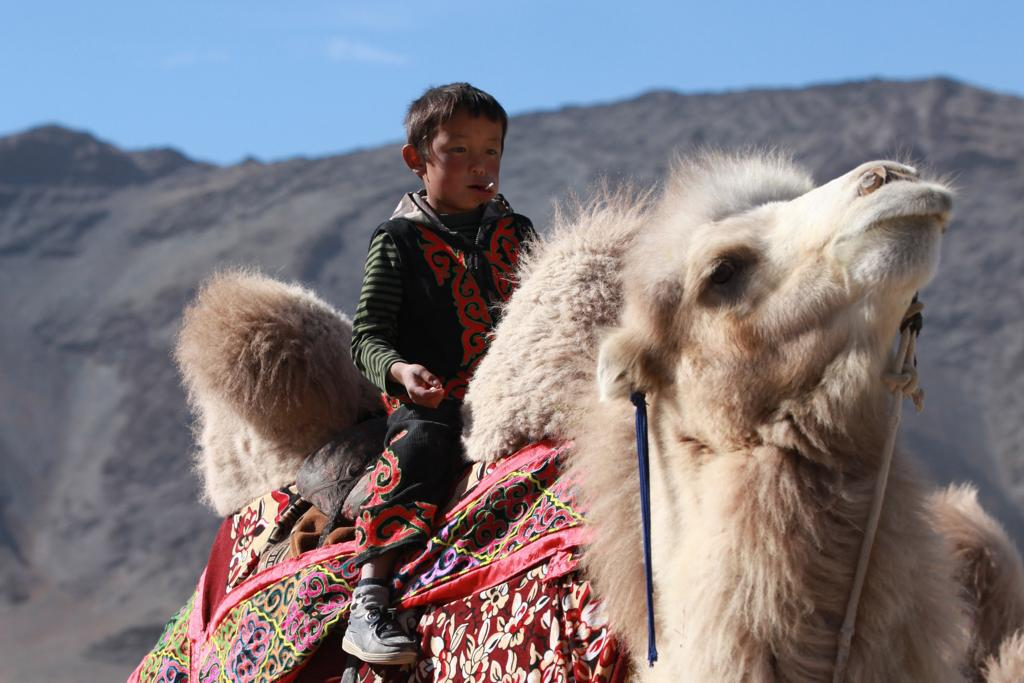face: (431, 105, 501, 209)
